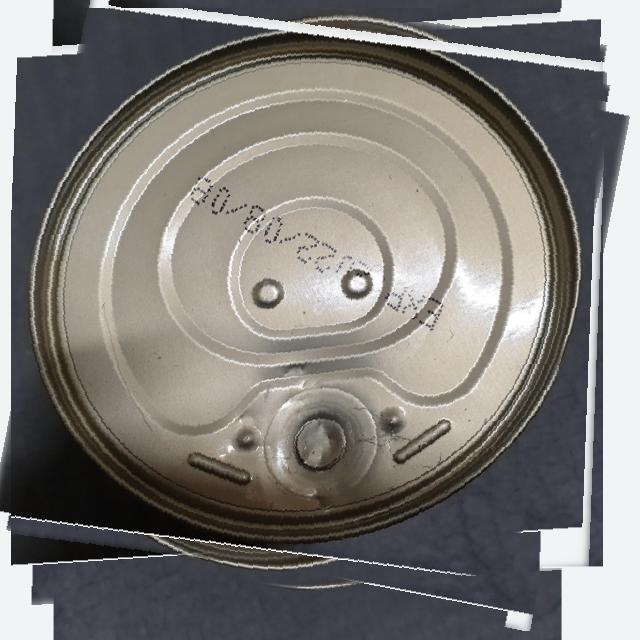recyclable: (11, 8, 611, 608)
